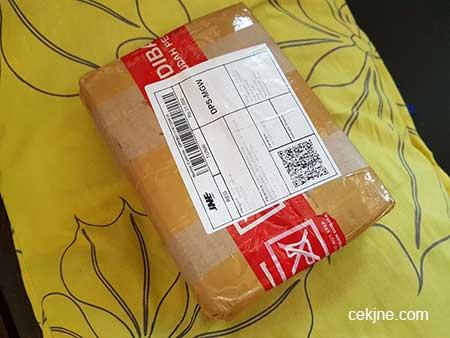undamaged: (70, 0, 402, 333)
